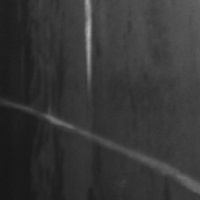inclusion: (0, 1, 67, 199)
scratches: (3, 100, 198, 195), (79, 1, 97, 97)
